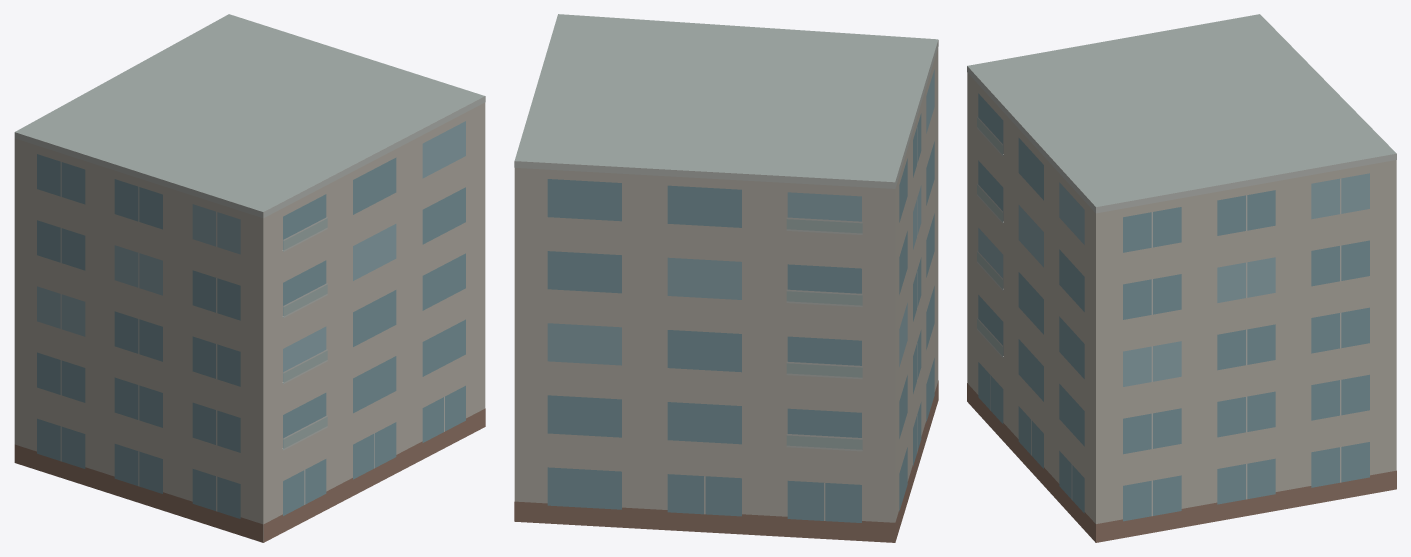
File: survey-upis-32889206.glb
3 views of the same model, side by side, from view 1: azimuth 30°, elevation 25°; view 2: azimuth 150°, elevation 25°; view 3: azimuth 270°, elevation 25° (orthographic). The views are drawn at different scales.
Parts seen in each view (by area): view 1: survey-upis-32889206.tmp; view 2: survey-upis-32889206.tmp; view 3: survey-upis-32889206.tmp.
Boxes of the visible parts, bbox=[...] form: survey-upis-32889206.tmp: bbox=[14, 14, 485, 542]; survey-upis-32889206.tmp: bbox=[514, 14, 938, 542]; survey-upis-32889206.tmp: bbox=[967, 14, 1396, 542].
Size of the model in its own units: 16.18 by 13.1 by 15.21.
